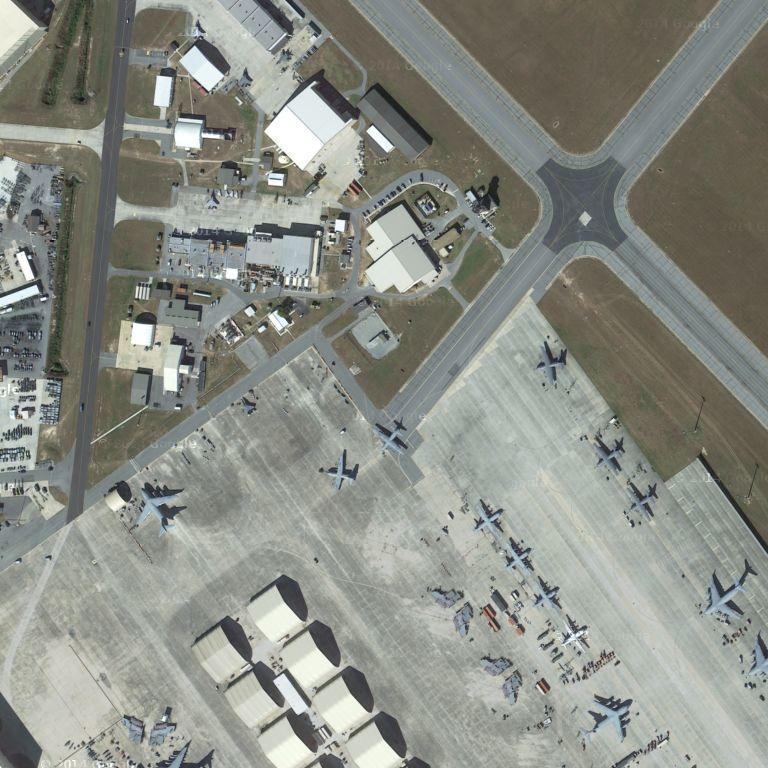C-130: (321, 445, 360, 496), (367, 421, 413, 463), (620, 481, 661, 524), (534, 341, 570, 385), (556, 612, 591, 655), (592, 438, 630, 477), (473, 499, 507, 540), (503, 538, 537, 577), (532, 574, 562, 616)
C-17: (132, 484, 186, 540), (700, 569, 747, 628), (584, 691, 635, 743)
